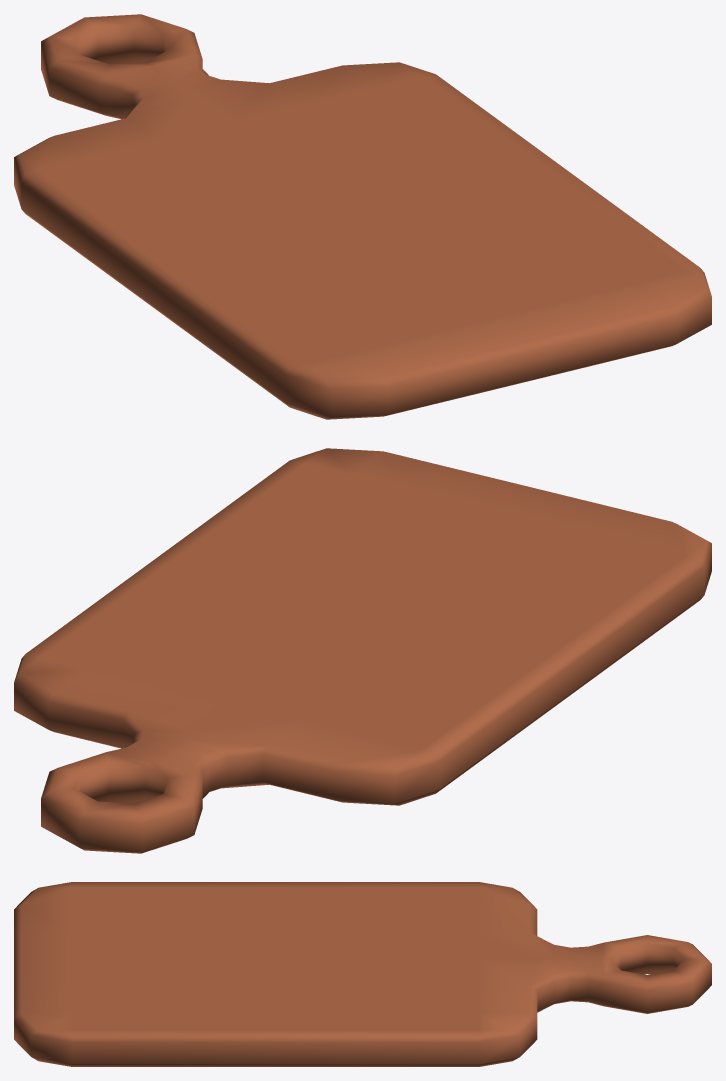
File: chopping_board_big.fbx
3 renders of one model, top to bottom at view 1: azimuth 30°, elevation 25°; view 2: azimuth 150°, elevation 25°; view 3: azimuth 270°, elevation 25°, orthographic. The views are drawn at different scales.
Parts seen in each view (by area): view 1: chopping_board_big; view 2: chopping_board_big; view 3: chopping_board_big.
Part boxes in pixels (bbox=[...]): chopping_board_big: bbox=[14, 14, 711, 419]; chopping_board_big: bbox=[14, 448, 711, 853]; chopping_board_big: bbox=[14, 882, 711, 1066].
Size of the model in its own units: 0.2258 by 0.0203 by 0.4231.
